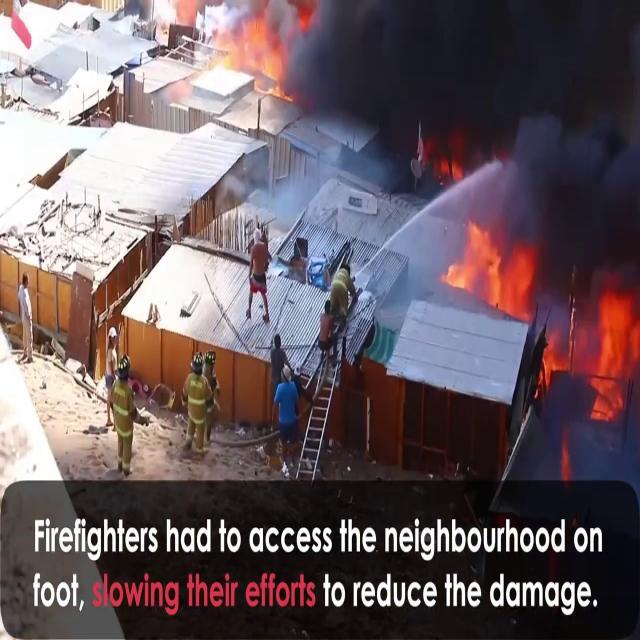Fire: (539, 280, 640, 422), (442, 213, 538, 318), (206, 7, 292, 98)
Smoke: (289, 1, 639, 208), (499, 0, 640, 292)
